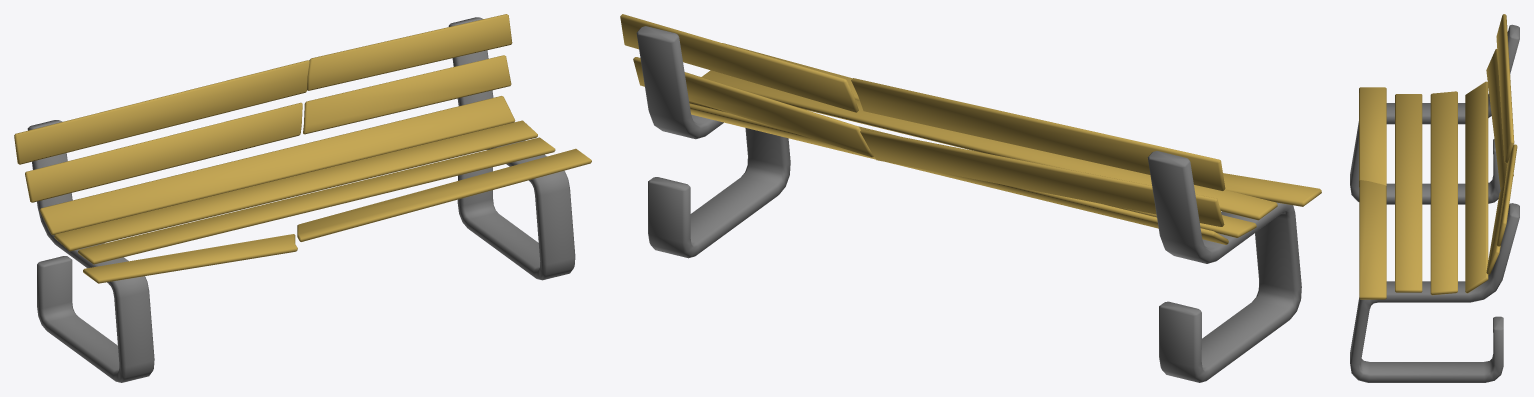
The picture shows the model from 3 angles, left to right: view 1: azimuth 30°, elevation 25°; view 2: azimuth 150°, elevation 25°; view 3: azimuth 270°, elevation 25°; orthographic projection. The views are drawn at different scales.
Parts seen in each view (by area): view 1: Vert.016; view 2: Vert.016; view 3: Vert.016.
Boxes of the visible parts, x1=… form: Vert.016: x1=14, y1=14, x2=591, y2=382; Vert.016: x1=620, y1=14, x2=1321, y2=382; Vert.016: x1=1350, y1=14, x2=1519, y2=382.
Bounding box in the file's own units: 235 × 88.86 × 80.44.
